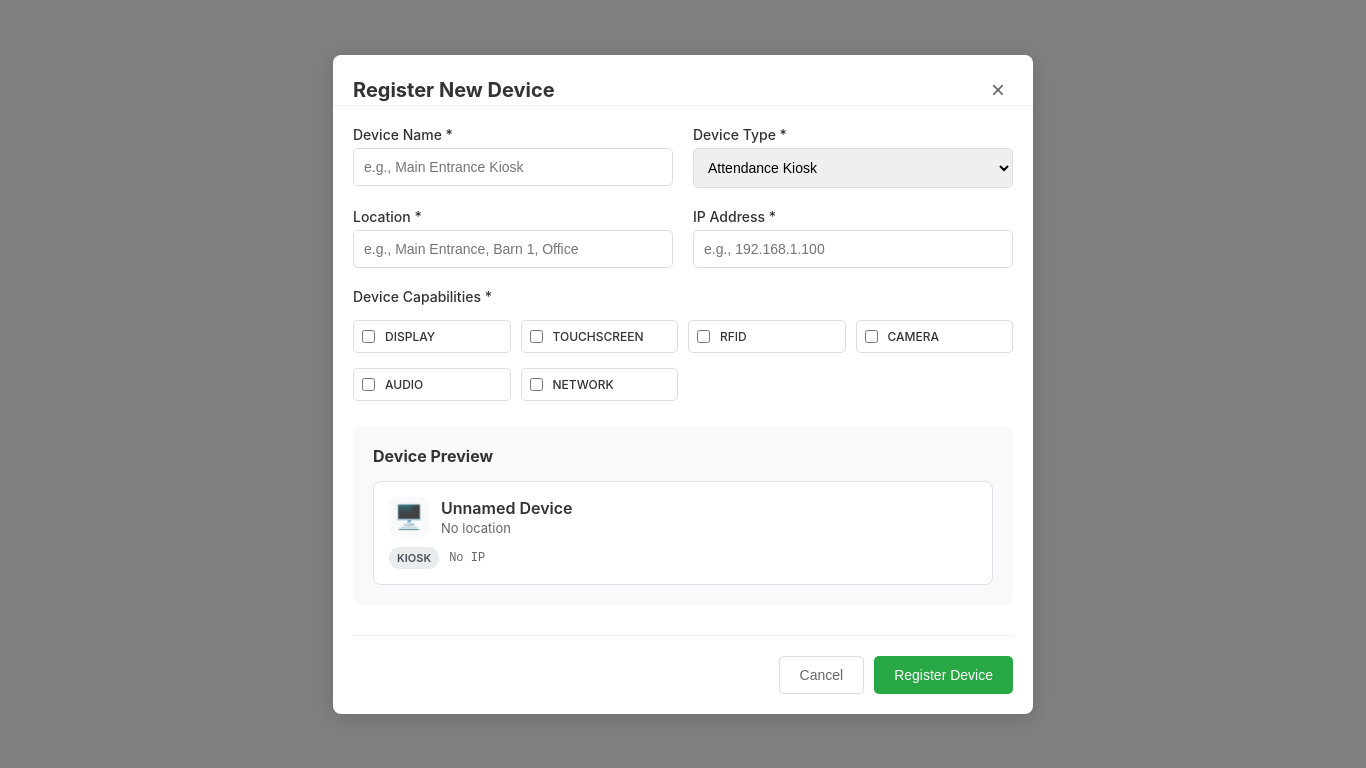
it: DeviceRegistration › validates IP address format
The width and height of the screenshot is (1366, 768).
Type "Test Device" into the field labelled "Device Name *" at coordinates (513, 166), box left=353, top=148, right=673, bottom=186
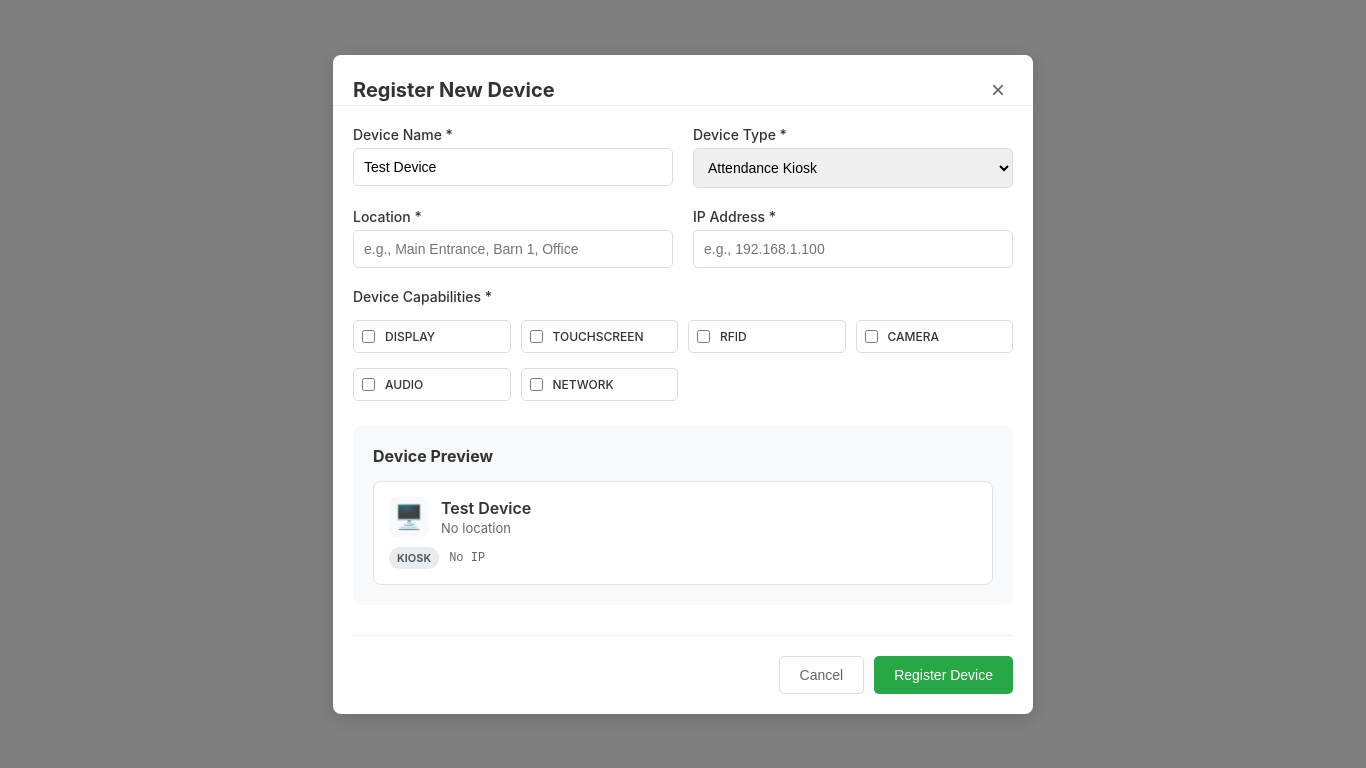
Type "Test Location" into the field labelled "Location *" at coordinates (513, 248), box left=353, top=230, right=673, bottom=268
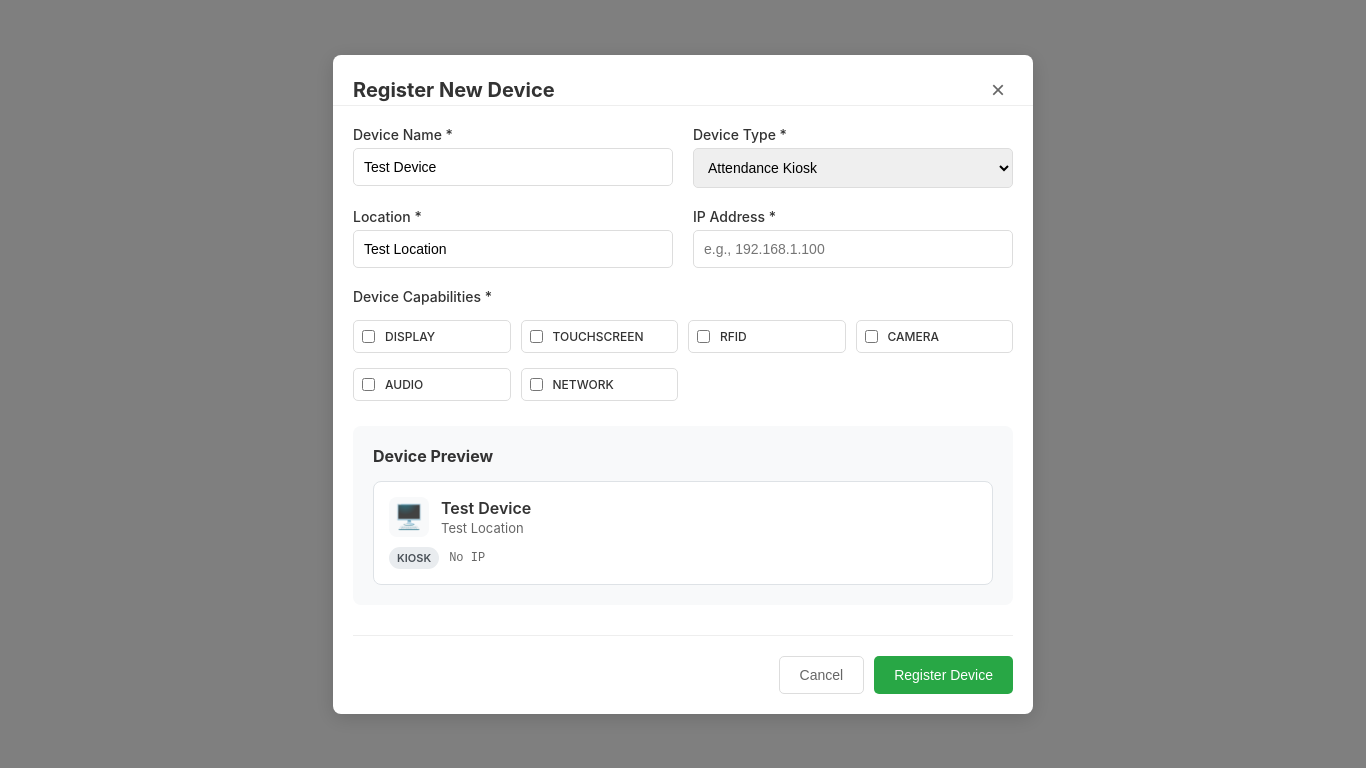
Type "invalid-ip" into the field labelled "IP Address *" at coordinates (853, 248), box left=693, top=230, right=1013, bottom=268
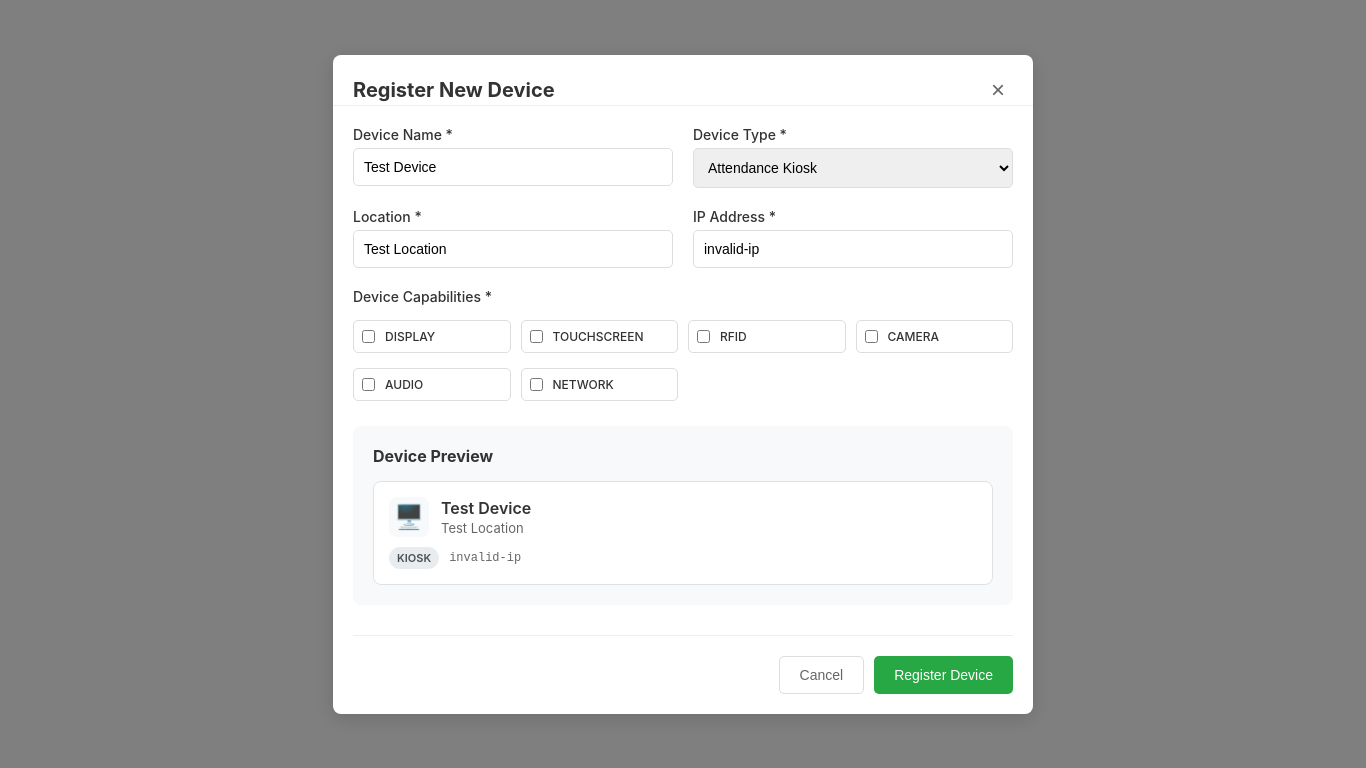
Click the button "Register Device" at coordinates (944, 674), box left=874, top=656, right=1013, bottom=694
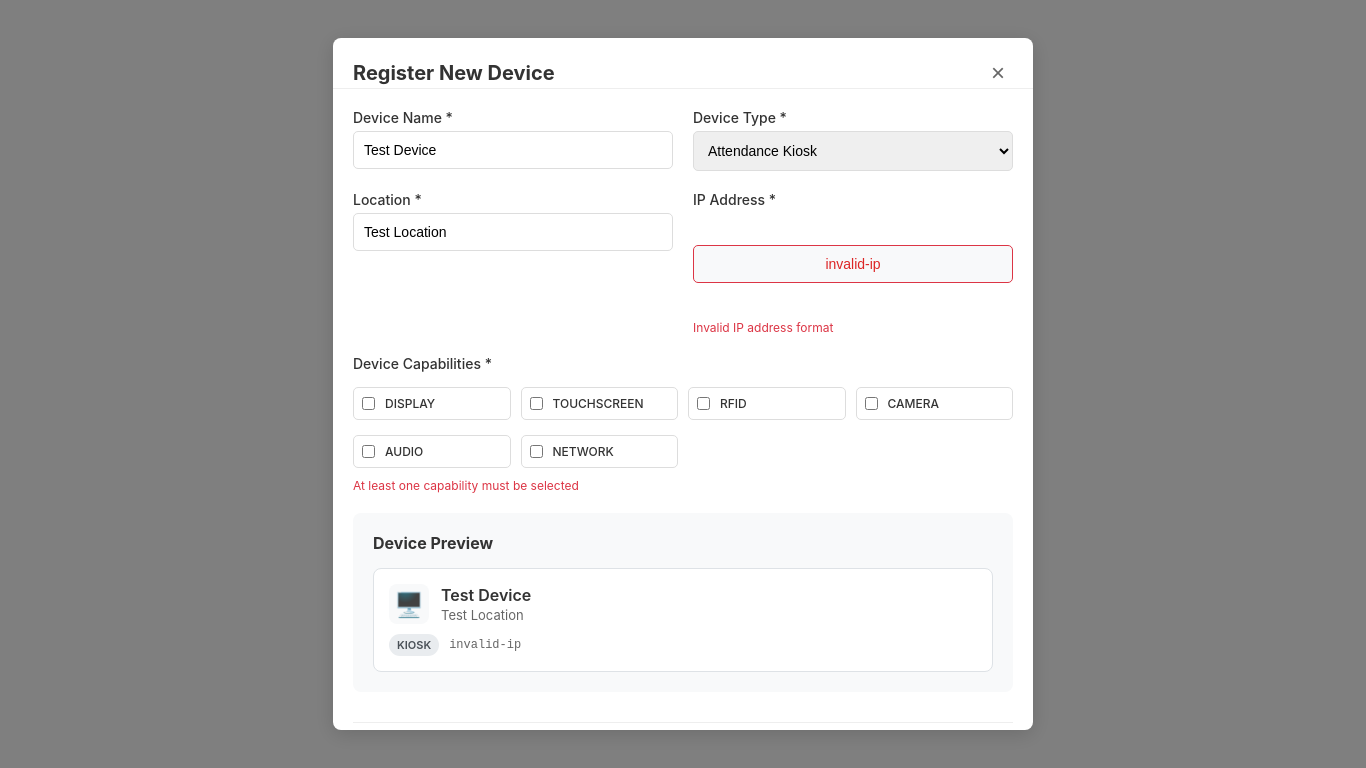
Result: the text "Invalid IP address format" is shown at left=693, top=320, right=833, bottom=335
